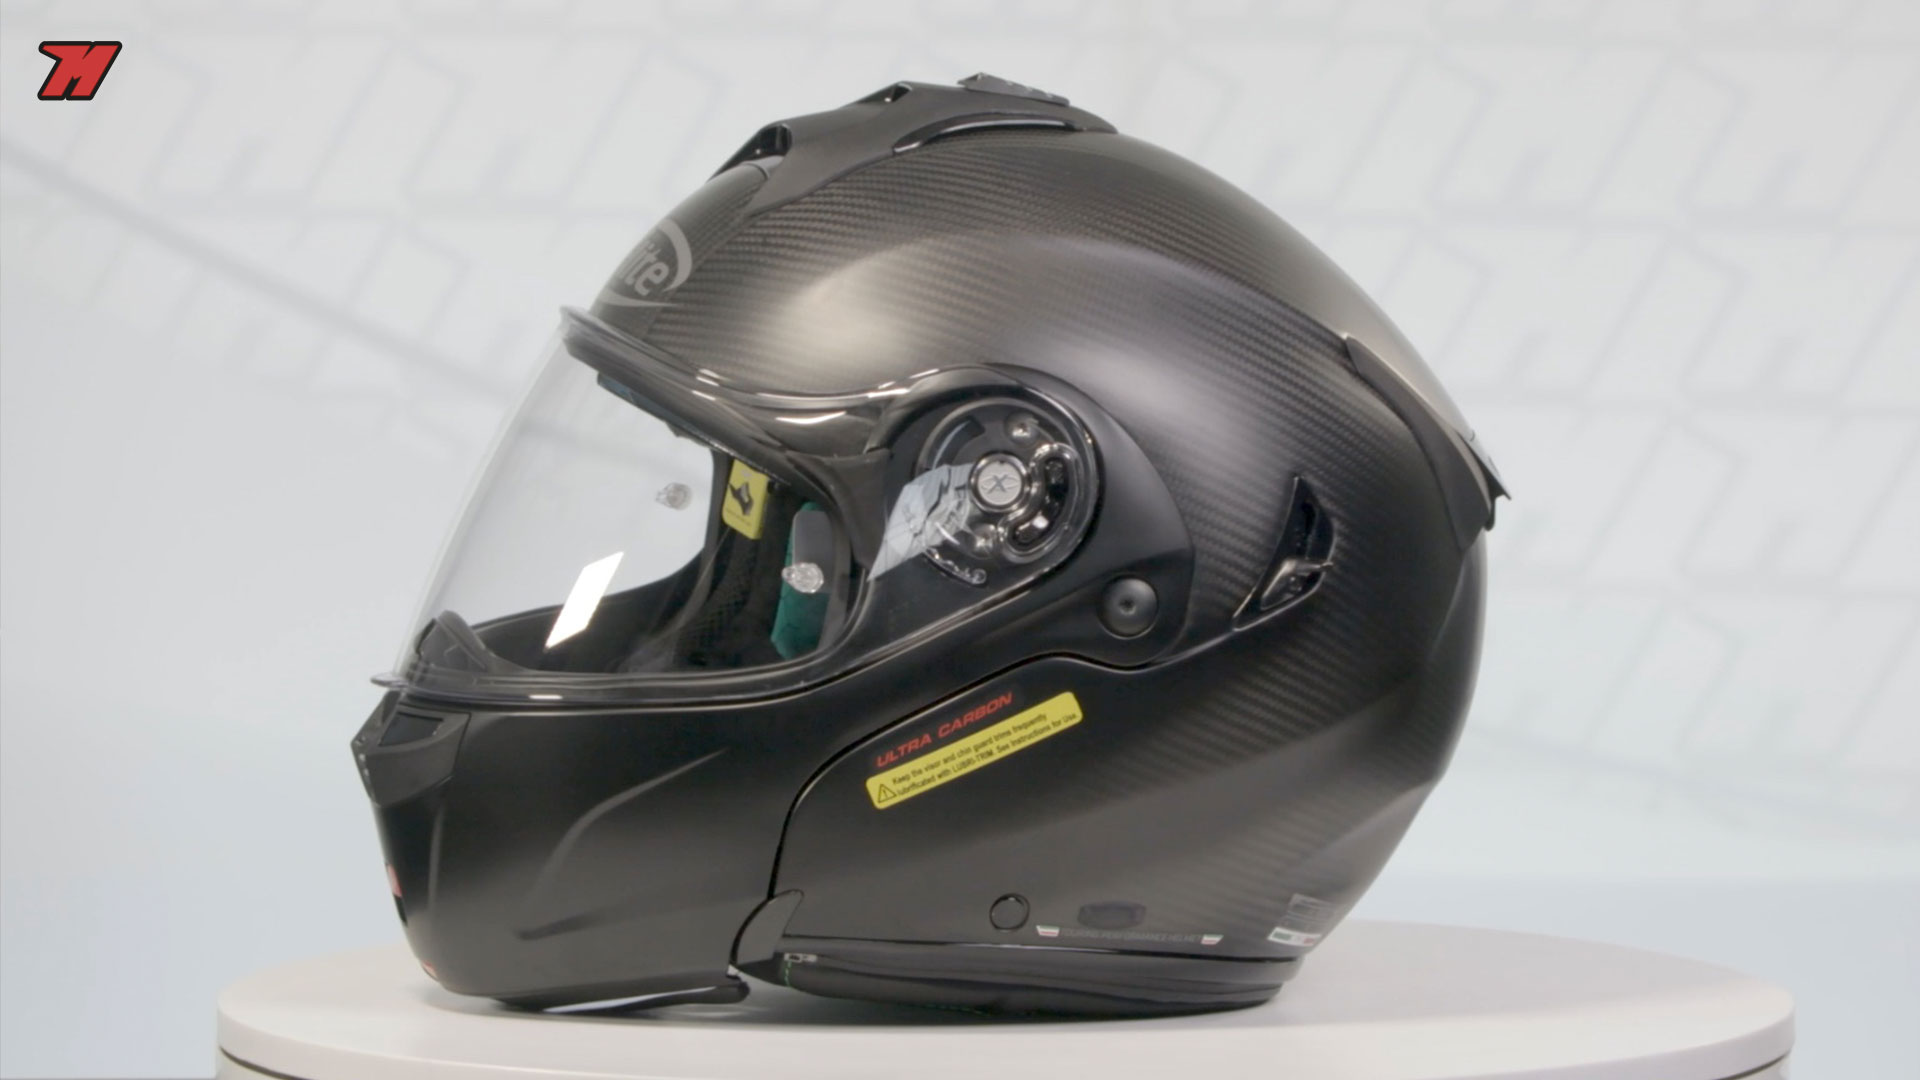with_helmet: (340, 58, 1516, 1040)
